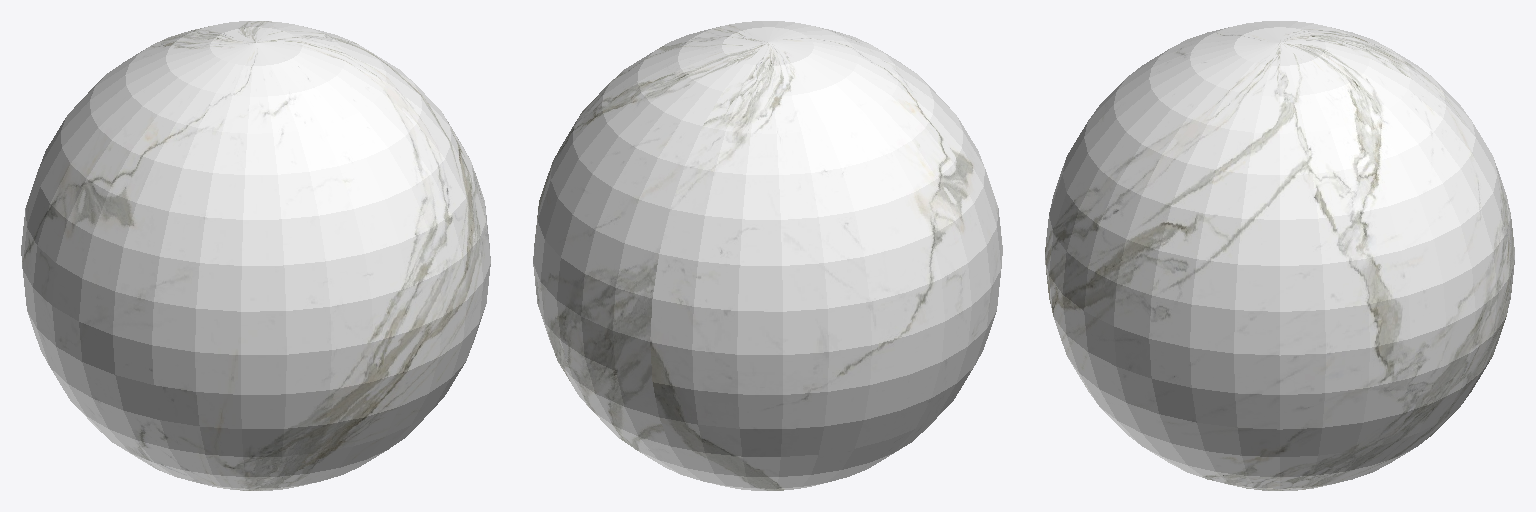
3 views of the same model, side by side, from view 1: azimuth 30°, elevation 25°; view 2: azimuth 150°, elevation 25°; view 3: azimuth 270°, elevation 25° (orthographic).
Visible parts, largest first — view 1: Sphere001; view 2: Sphere001; view 3: Sphere001.
Boxes of the visible parts, x1,y1,x2,y2 form: Sphere001: [21, 21, 490, 490]; Sphere001: [533, 21, 1002, 490]; Sphere001: [1045, 21, 1514, 490].
Bounding box in the file's own units: 38.09 × 38.09 × 38.09.
1 materials, 1 textured.